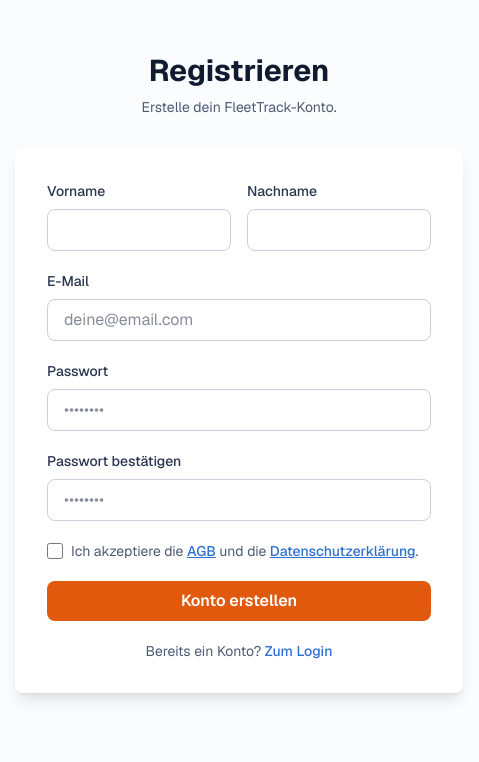
Test case: Registrieren › blocks the submit with an inline error when consent is not given
Type "Nico" into the field with id "firstName" at (139, 230), box 47,209 -> 231,251
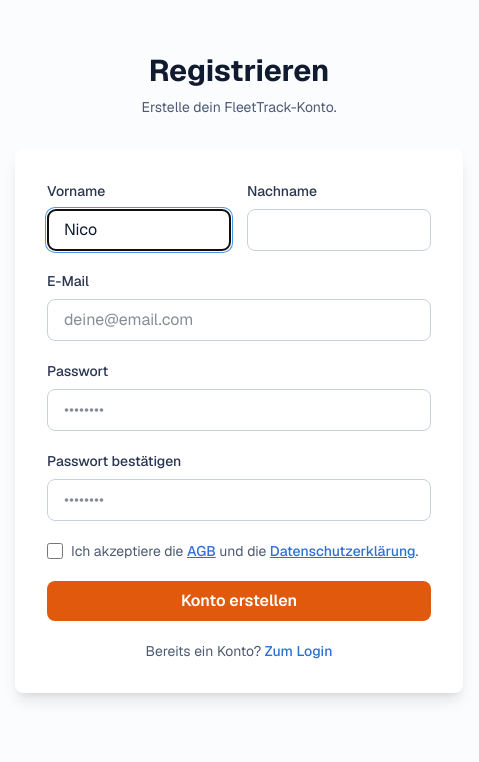
Type "Balmer" into the field with id "lastName" at (339, 230), box 247,209 -> 431,251
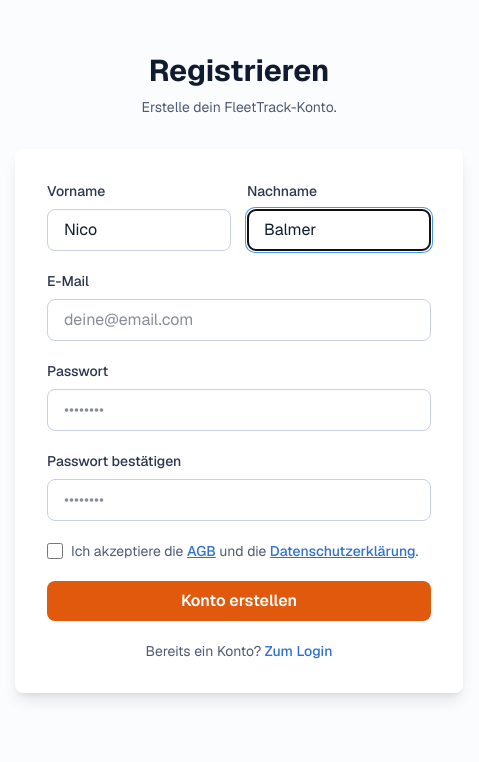
Type "nico@example.test" into the field with id "email" at (239, 320), box 47,299 -> 431,341
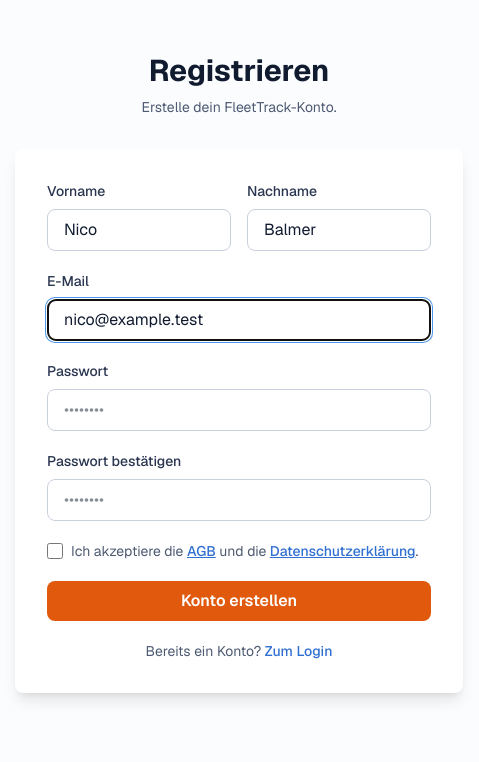
Type "geheim123" into the password field labelled "Passwort" at (239, 410), box 47,389 -> 431,431
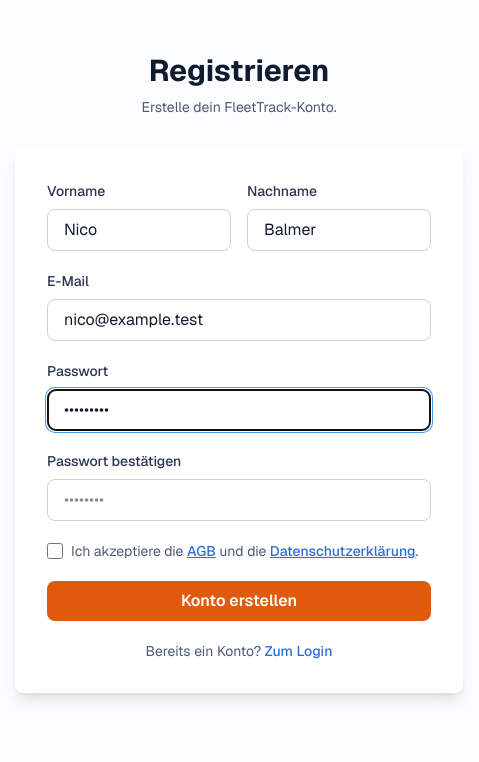
Type "geheim123" into the password field with id "confirmPassword" at (239, 500), box 47,479 -> 431,521
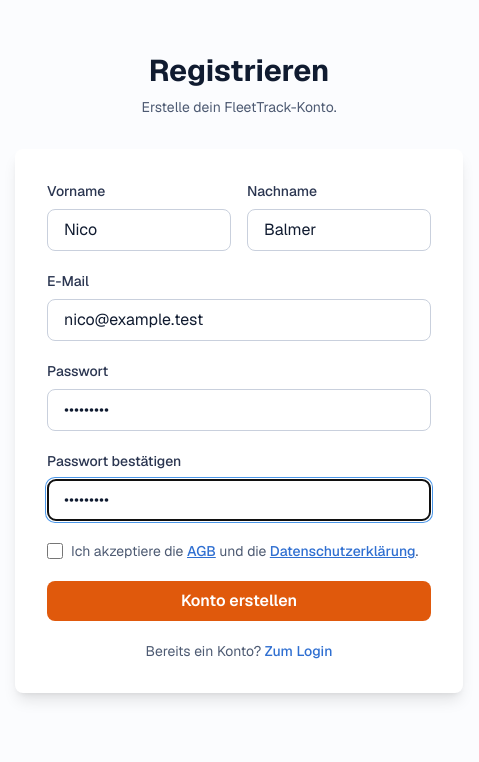
Click the button "Konto erstellen" at (239, 601), box 47,581 -> 431,621
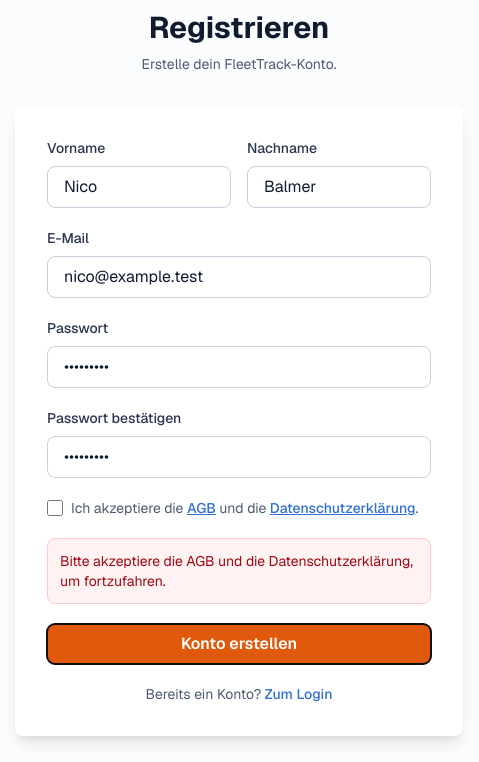
Now the text "Bitte akzeptiere die AGB und die Datenschutzerklärung, um fortzufahren." is shown, box 60,551 -> 418,591
